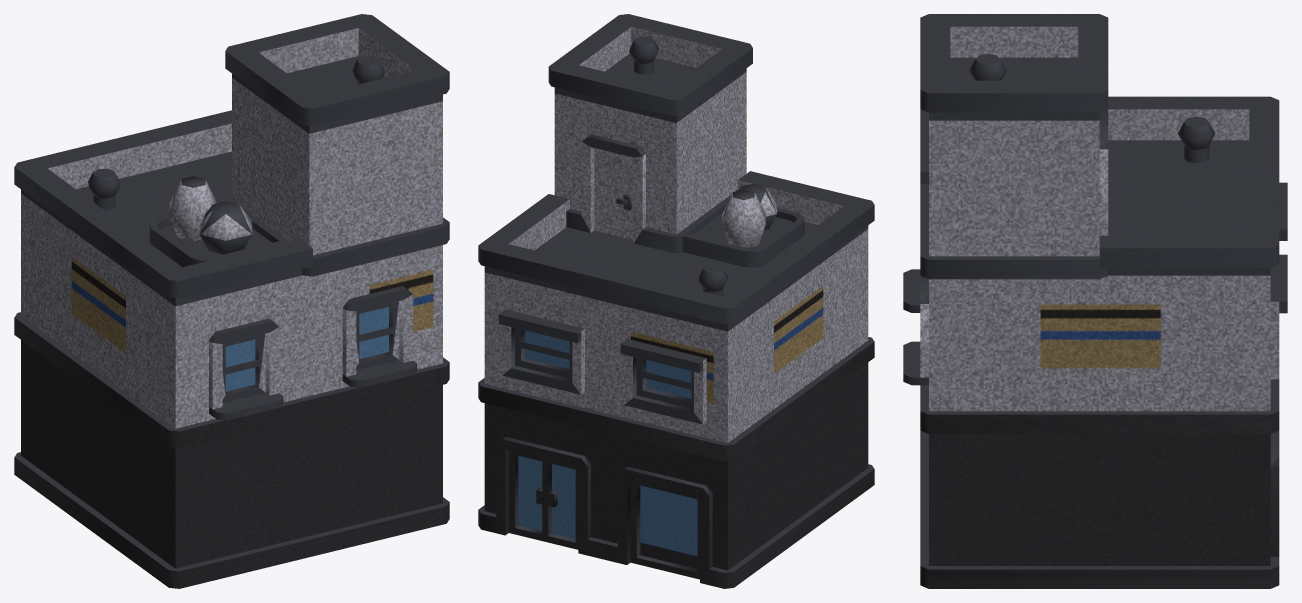
Rendered from building-d-white-scuffed.glb.
3 views of the same model, side by side, from view 1: azimuth 30°, elevation 25°; view 2: azimuth 150°, elevation 25°; view 3: azimuth 270°, elevation 25° (orthographic). The views are drawn at different scales.
Parts seen in each view (by area): view 1: building-d-white-scuffed; view 2: building-d-white-scuffed; view 3: building-d-white-scuffed.
Part boxes in pixels (x1,y1,x2,y2): building-d-white-scuffed: [14, 14, 449, 588]; building-d-white-scuffed: [478, 14, 874, 588]; building-d-white-scuffed: [903, 14, 1287, 588].
Size of the model in its own units: 0.84 by 1.29 by 0.9.
Materials: 1 (1 with a texture image).
